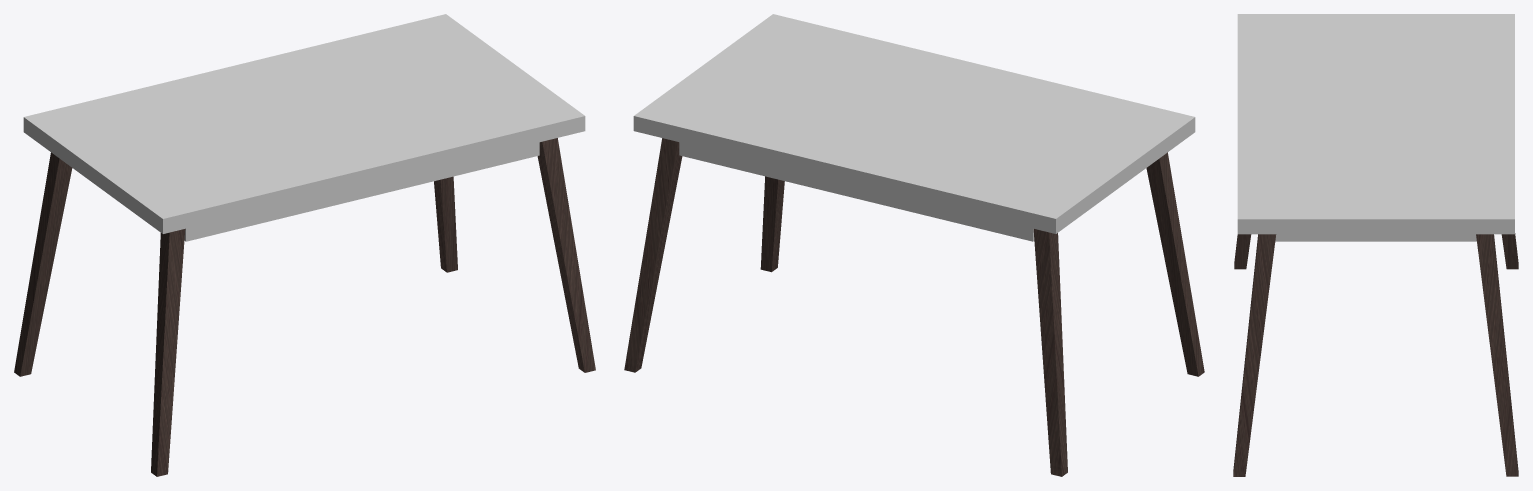
File: Dining_Table.fbx
3 renders of one model, left to right at view 1: azimuth 30°, elevation 25°; view 2: azimuth 150°, elevation 25°; view 3: azimuth 270°, elevation 25°, orthographic.
Visible parts, largest first — view 1: Cube.001, Cube.002, Cube.005, Cube.003, Cube.004; view 2: Cube.001, Cube.003, Cube.004, Cube.002, Cube.005; view 3: Cube.001, Cube.005, Cube.004, Cube.003, Cube.002.
Part boxes in pixels (x1,y1,x2,y2): Cube.001: [23, 14, 585, 241]; Cube.002: [151, 229, 185, 476]; Cube.005: [537, 138, 595, 372]; Cube.003: [14, 152, 72, 376]; Cube.004: [434, 176, 457, 272]; Cube.001: [633, 14, 1195, 241]; Cube.003: [1033, 229, 1067, 476]; Cube.004: [624, 138, 682, 372]; Cube.002: [1146, 152, 1204, 376]; Cube.005: [760, 176, 784, 272]; Cube.001: [1237, 14, 1514, 241]; Cube.005: [1233, 234, 1276, 476]; Cube.004: [1476, 234, 1518, 476]; Cube.003: [1501, 233, 1518, 269]; Cube.002: [1234, 234, 1251, 269].
Size of the model in its own units: 182 by 101 by 103.
Materials: 2 (2 with a texture image).
